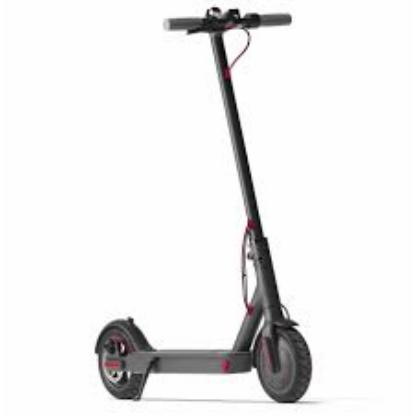bike: (94, 6, 313, 404)
